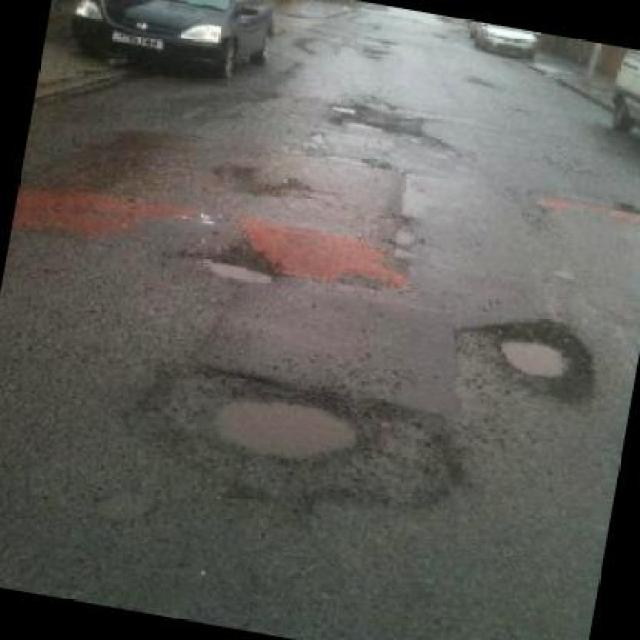pothole: (110, 350, 473, 527), (466, 306, 605, 408), (321, 97, 424, 145), (192, 245, 286, 292)
